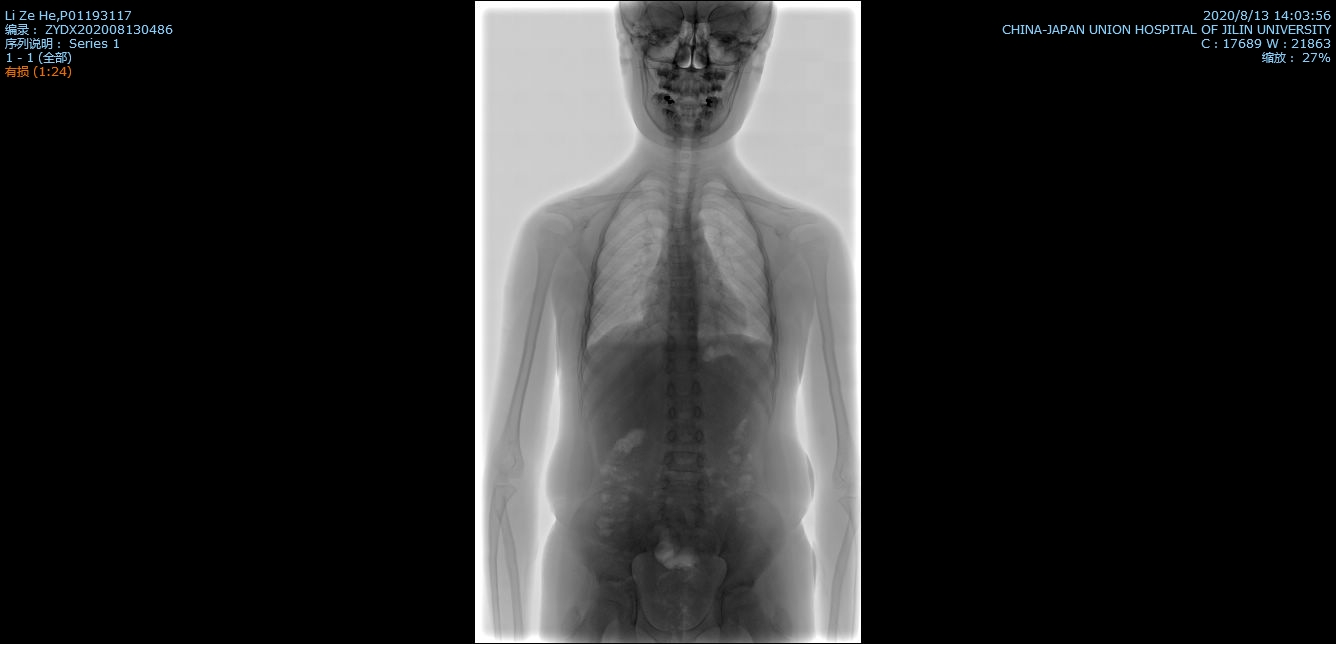Bone: (660, 502, 705, 522), (663, 474, 705, 494), (666, 428, 702, 446), (665, 453, 703, 469), (669, 402, 702, 420), (666, 379, 699, 396), (665, 336, 697, 351), (665, 357, 696, 372), (667, 316, 698, 331), (666, 296, 695, 311), (668, 276, 695, 291)
